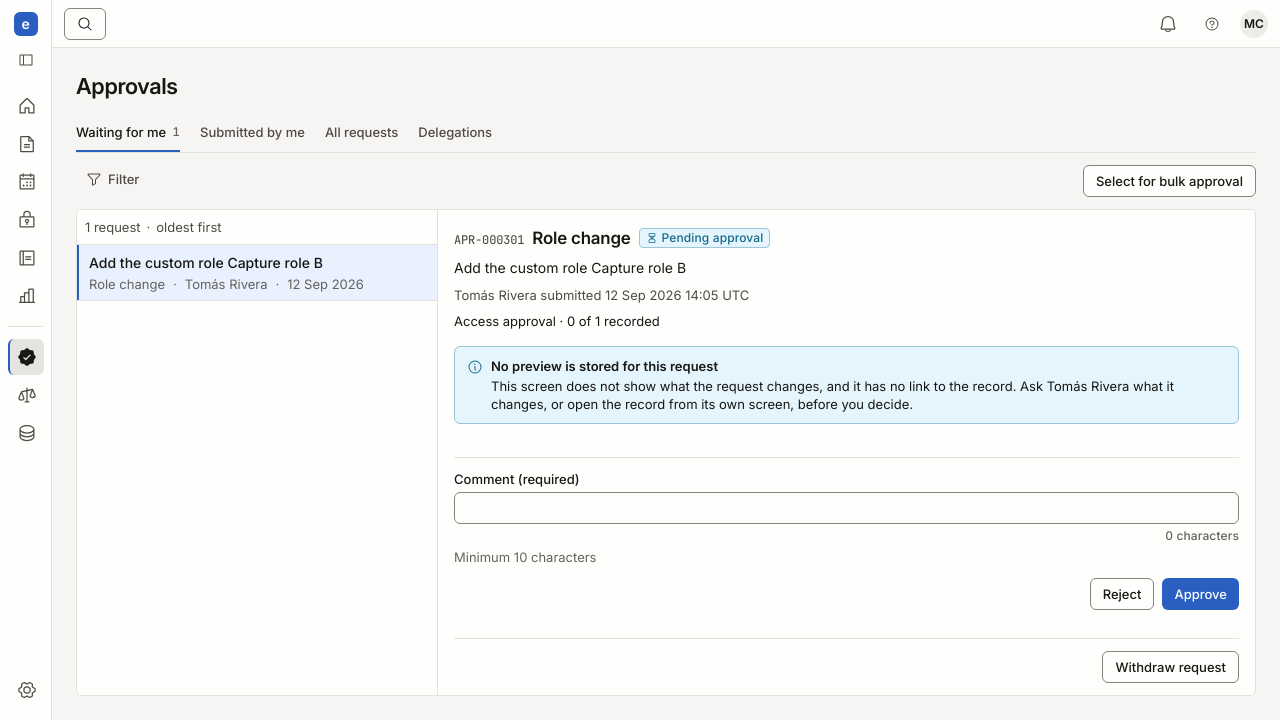
Test: SF-12 bulk approval › Exit bulk selection returns to the list, and a request open in the pane closes for the grid
Check: the list named "Approval requests" is shown, box [77, 245, 437, 301]
Step 1. Click the button "Select for bulk approval" → point(1170, 181), box [1083, 165, 1256, 197]
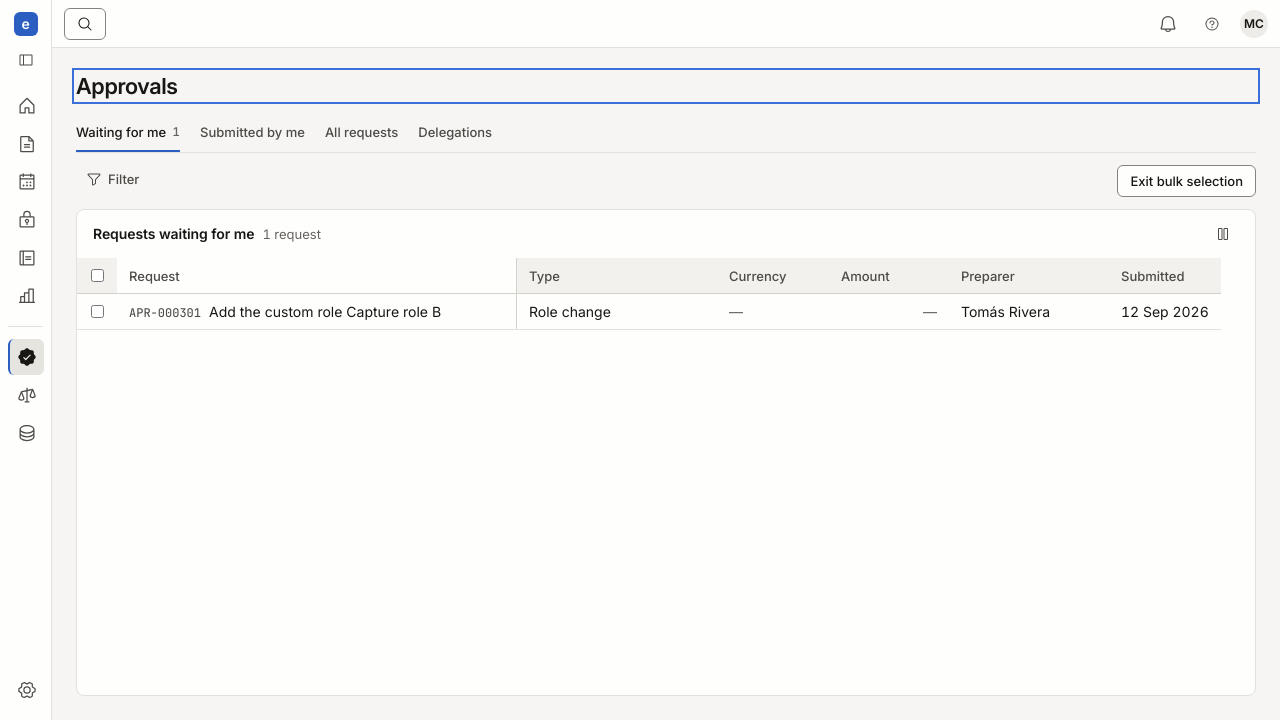
Step 2. Click the button "Exit bulk selection" → point(1187, 181), box [1118, 165, 1256, 197]
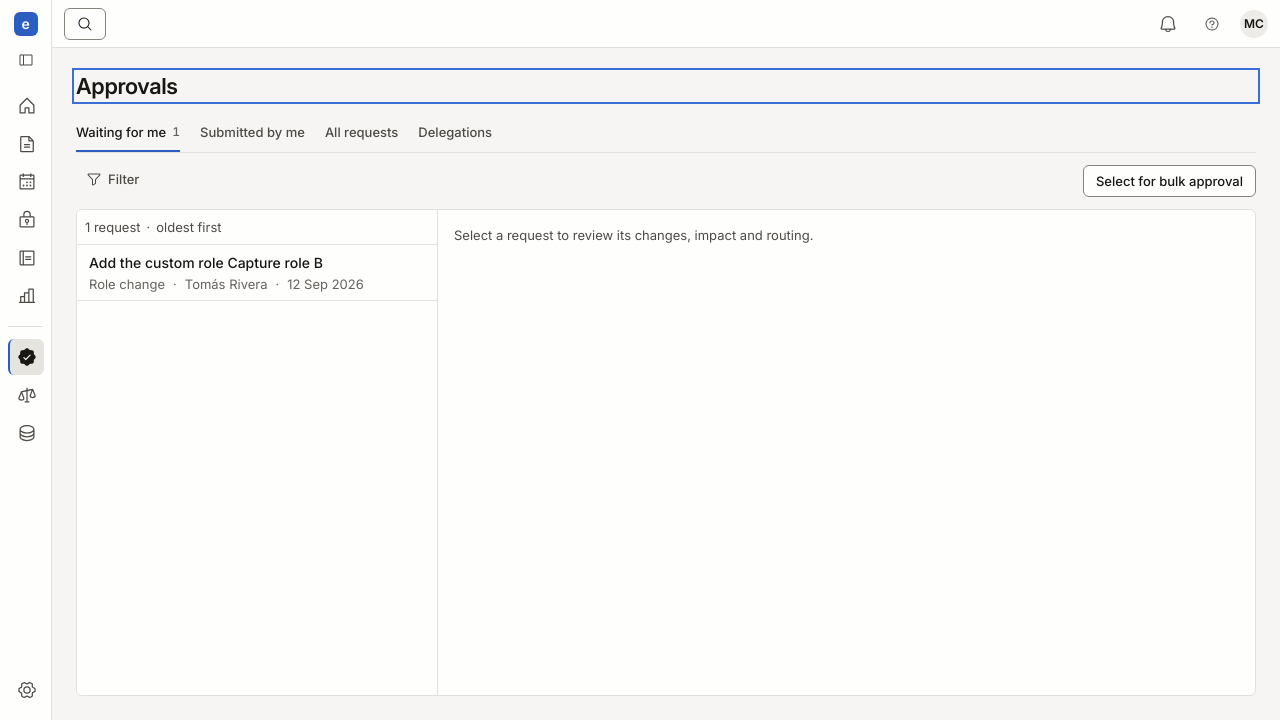
Check: the list named "Approval requests" is shown, box [77, 245, 437, 301]
Check: the element with test id "SF-12-grid-bulk" is gone
